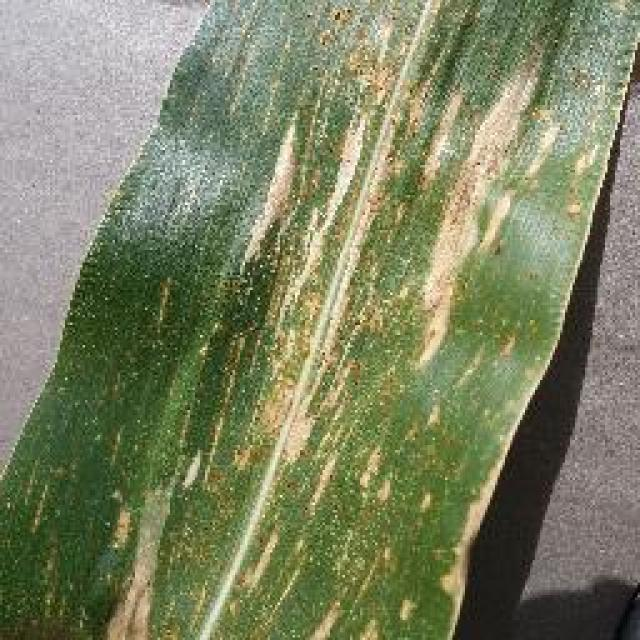Corn___Cercospora_leaf_spot Gray_leaf_spot: (117, 17, 528, 628)
